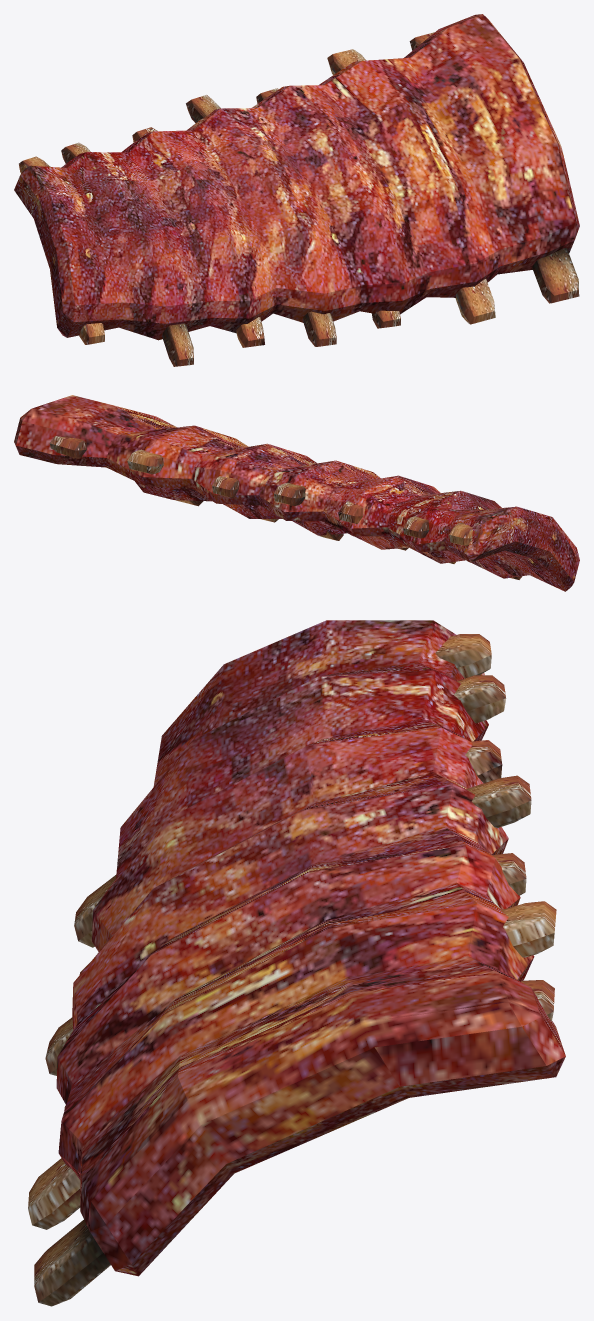
The model's file is Rippchen.fbx.
The picture shows the model from 3 angles, top to bottom: view 1: azimuth 30°, elevation 25°; view 2: azimuth 150°, elevation 25°; view 3: azimuth 270°, elevation 25°; orthographic projection. The views are drawn at different scales.
Parts seen in each view (by area): view 1: skp3958_1; view 2: skp3958_1; view 3: skp3958_1.
Part boxes in pixels (x1,y1,x2,y2): skp3958_1: (14,14,579,366); skp3958_1: (14,395,579,591); skp3958_1: (28,620,565,1306).
Bounding box in the file's own units: 18.94 × 6.42 × 9.31.
